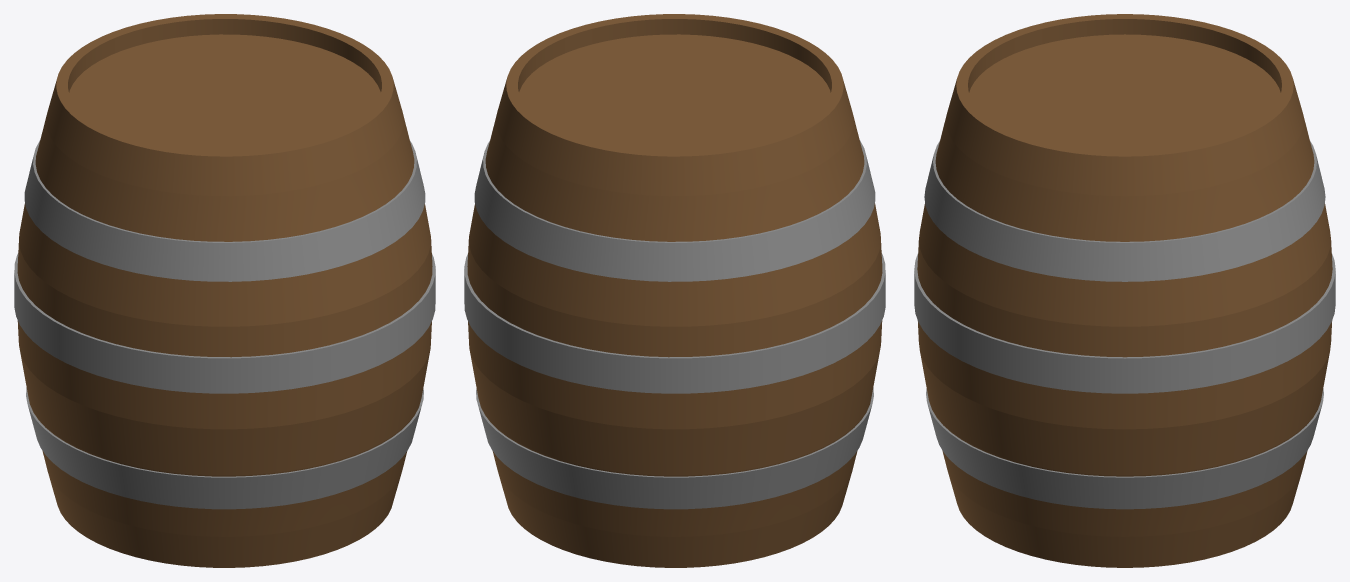
3 views of the same model, side by side, from view 1: azimuth 30°, elevation 25°; view 2: azimuth 150°, elevation 25°; view 3: azimuth 270°, elevation 25° (orthographic).
Parts seen in each view (by area): view 1: barrel; view 2: barrel; view 3: barrel.
Part boxes in pixels (x1,y1,x2,y2): barrel: (14,14,435,567); barrel: (464,14,885,567); barrel: (914,14,1335,567).
Bounding box in the file's own units: 0.834 × 0.8984 × 0.834.
